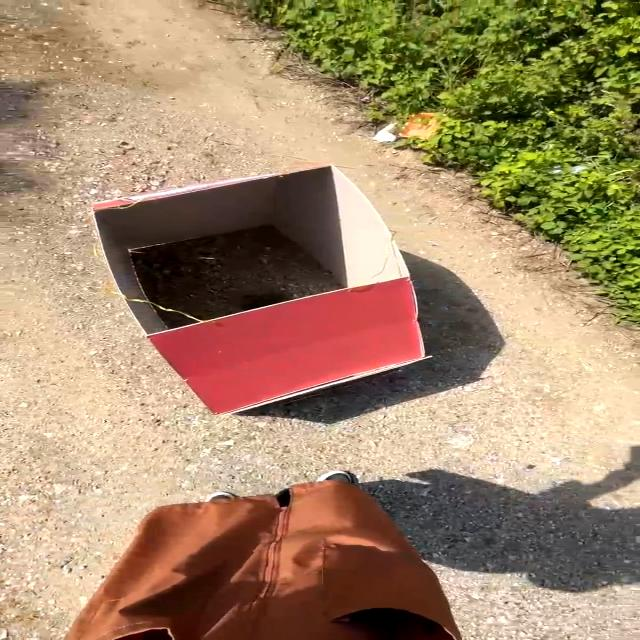red_car: (60, 150, 484, 430)
